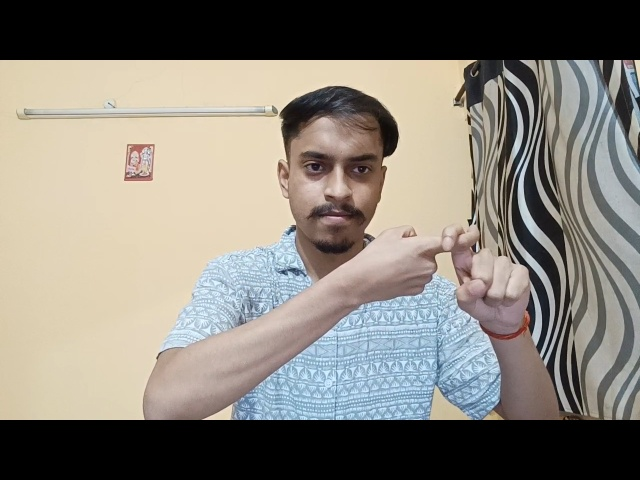Friend: (385, 200, 523, 327)
